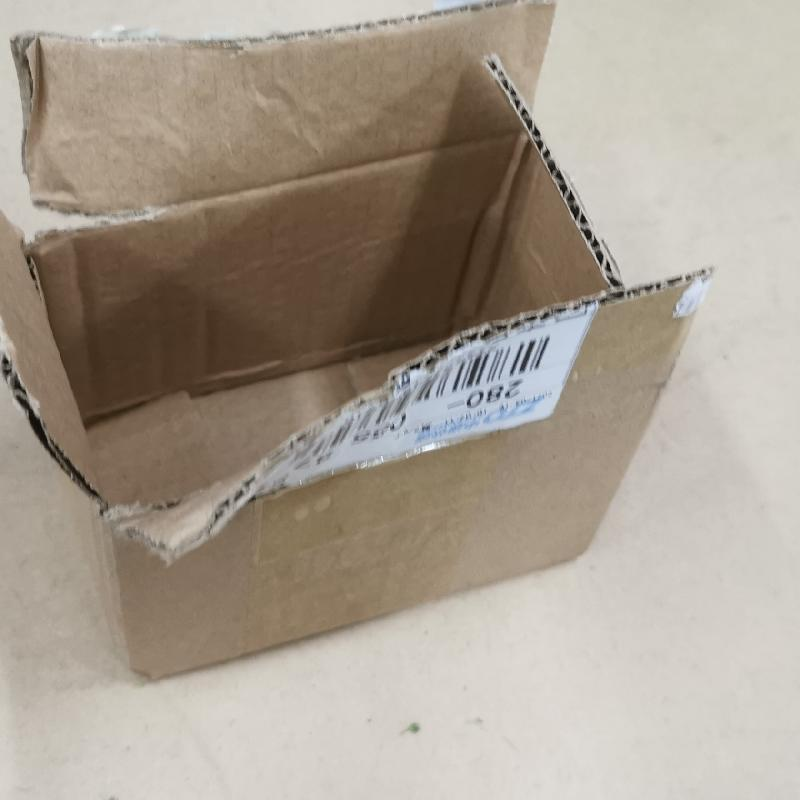boxes: (5, 9, 714, 680)
